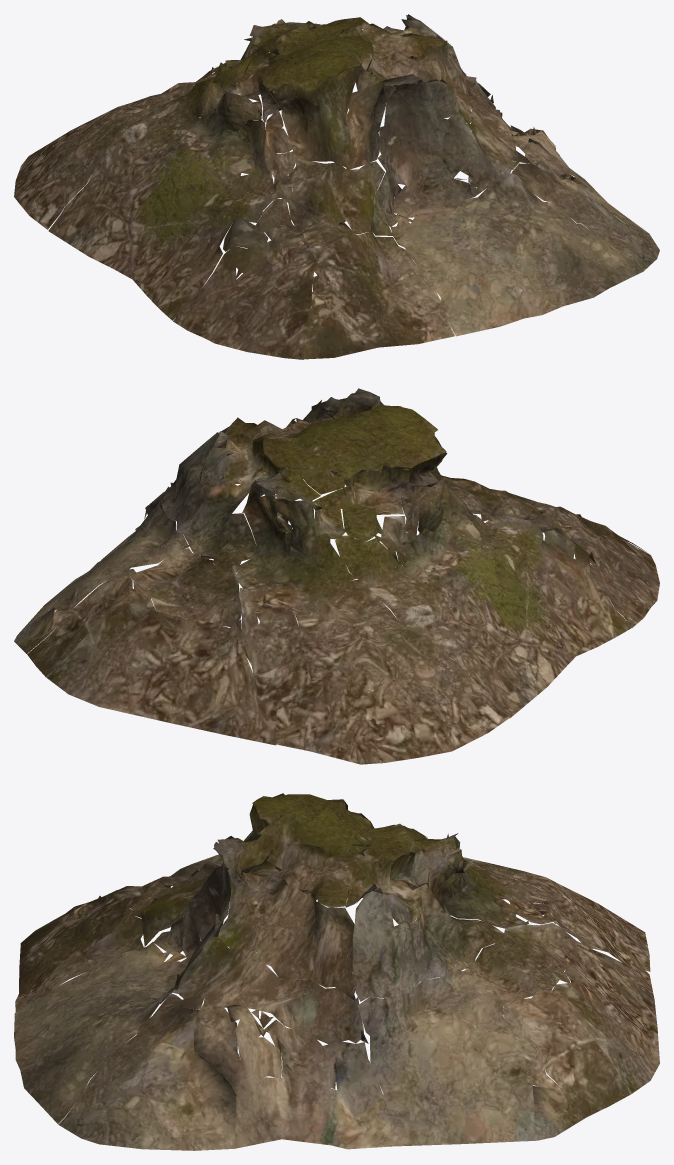
File: tree_stump_01.glb
3 views of the same model, one above another, from view 1: azimuth 30°, elevation 25°; view 2: azimuth 150°, elevation 25°; view 3: azimuth 270°, elevation 25° (orthographic). The views are drawn at different scales.
Parts seen in each view (by area): view 1: tree_stump_01; view 2: tree_stump_01; view 3: tree_stump_01.
Boxes of the visible parts, left/top/right/bottom form: tree_stump_01: left=14, top=14, right=659, bottom=359; tree_stump_01: left=14, top=388, right=659, bottom=764; tree_stump_01: left=14, top=793, right=659, bottom=1150.
Bounding box in the file's own units: 1.42 × 0.571 × 1.59.
Materials: 1 (1 with a texture image).
